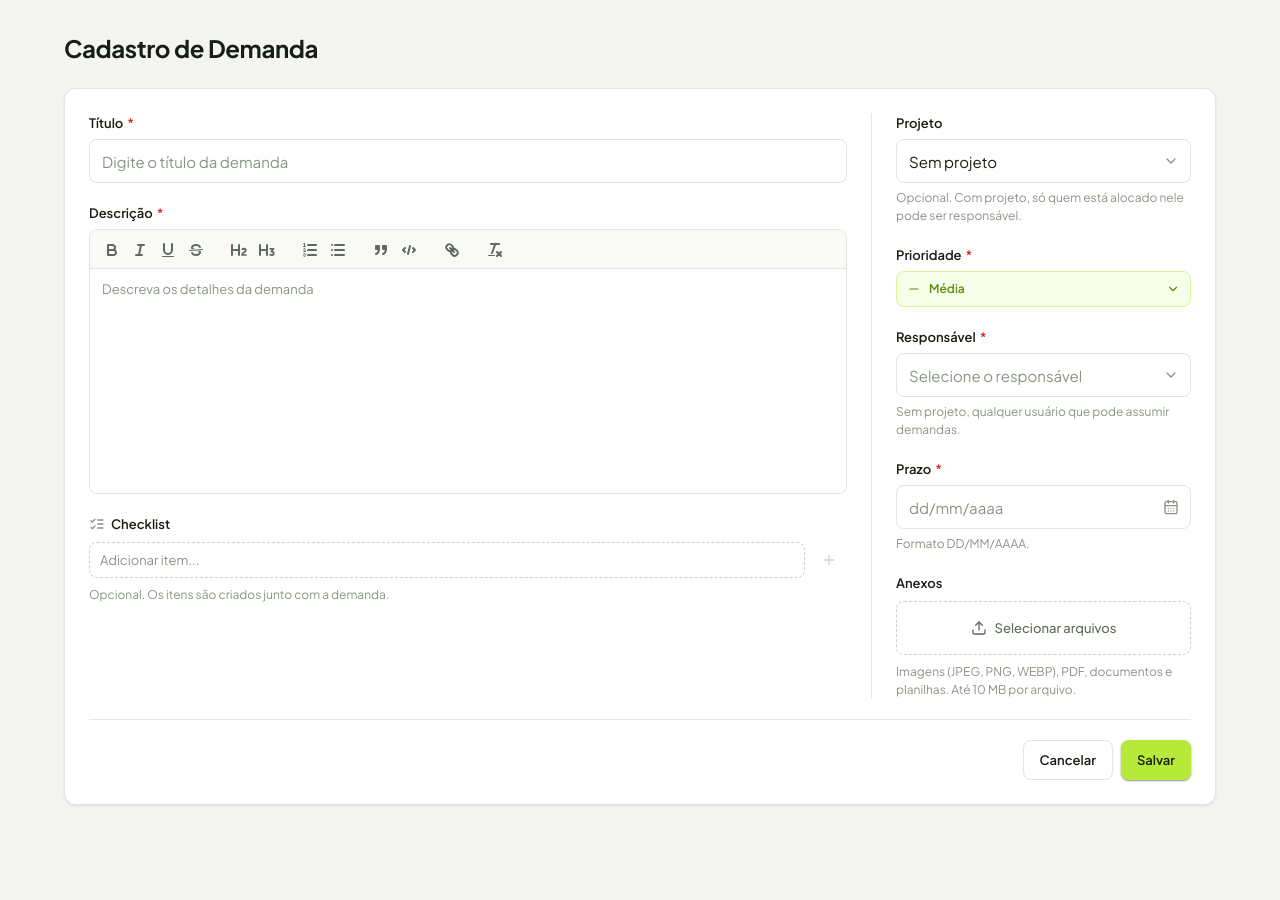
Test case: DemandFormPage — arriving from a column's "+" › clears the responsible and explains why when the chosen project excludes them
// Picked while no project narrowed the list — Sofia is eligible, just not here.
Click the dropdown labelled "Responsável *".
click(1044, 375)  # box [896,353,1191,397]
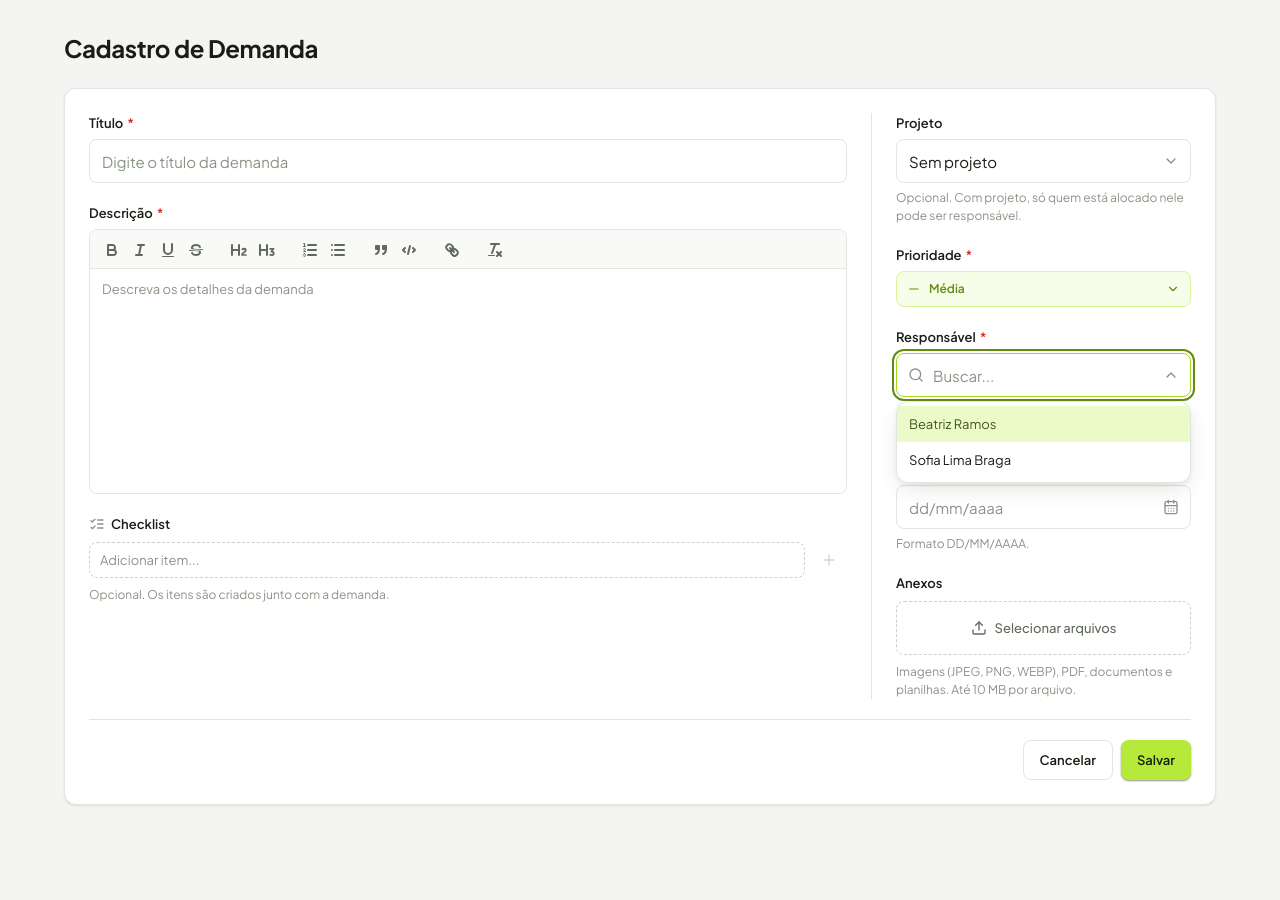
Click the option "Sofia Lima Braga".
click(960, 460)  # box [909,452,1011,468]
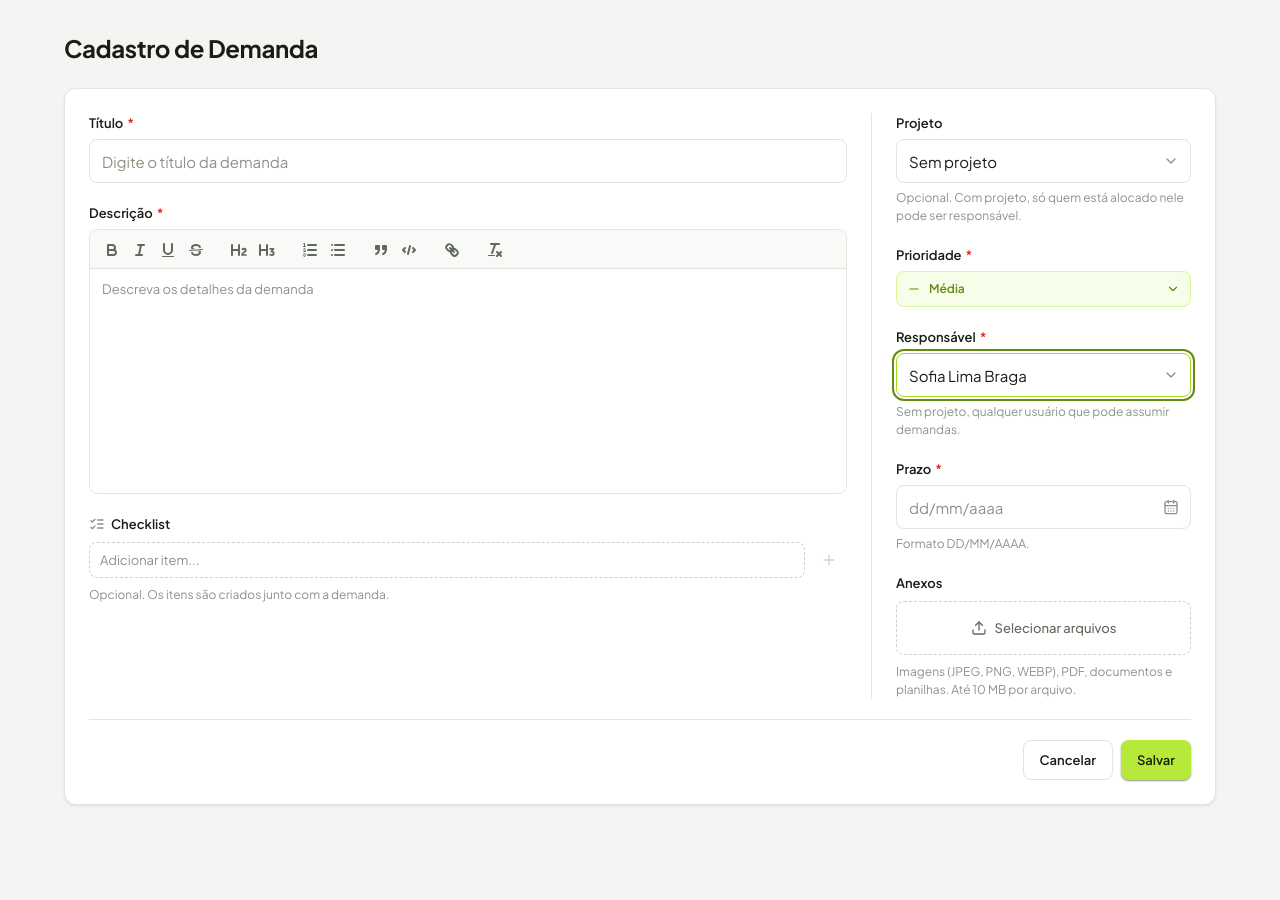
Expected: the dropdown labelled "Responsável *" holds "Sofia Lima Braga", [896,353,1191,397]
Click the dropdown labelled "Projeto".
click(1044, 161)  # box [896,139,1191,183]
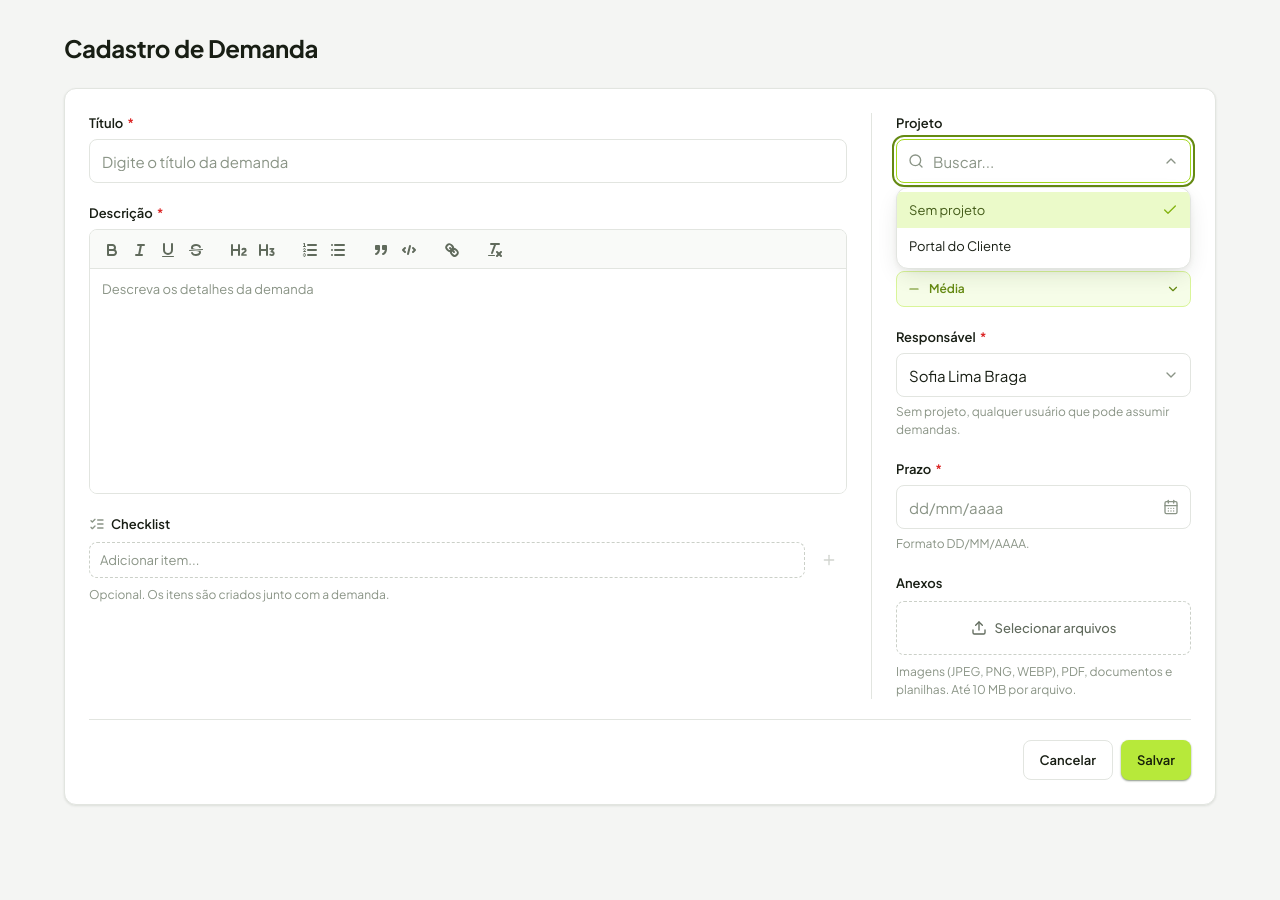
Click the option "Portal do Cliente".
click(960, 246)  # box [909,238,1011,254]
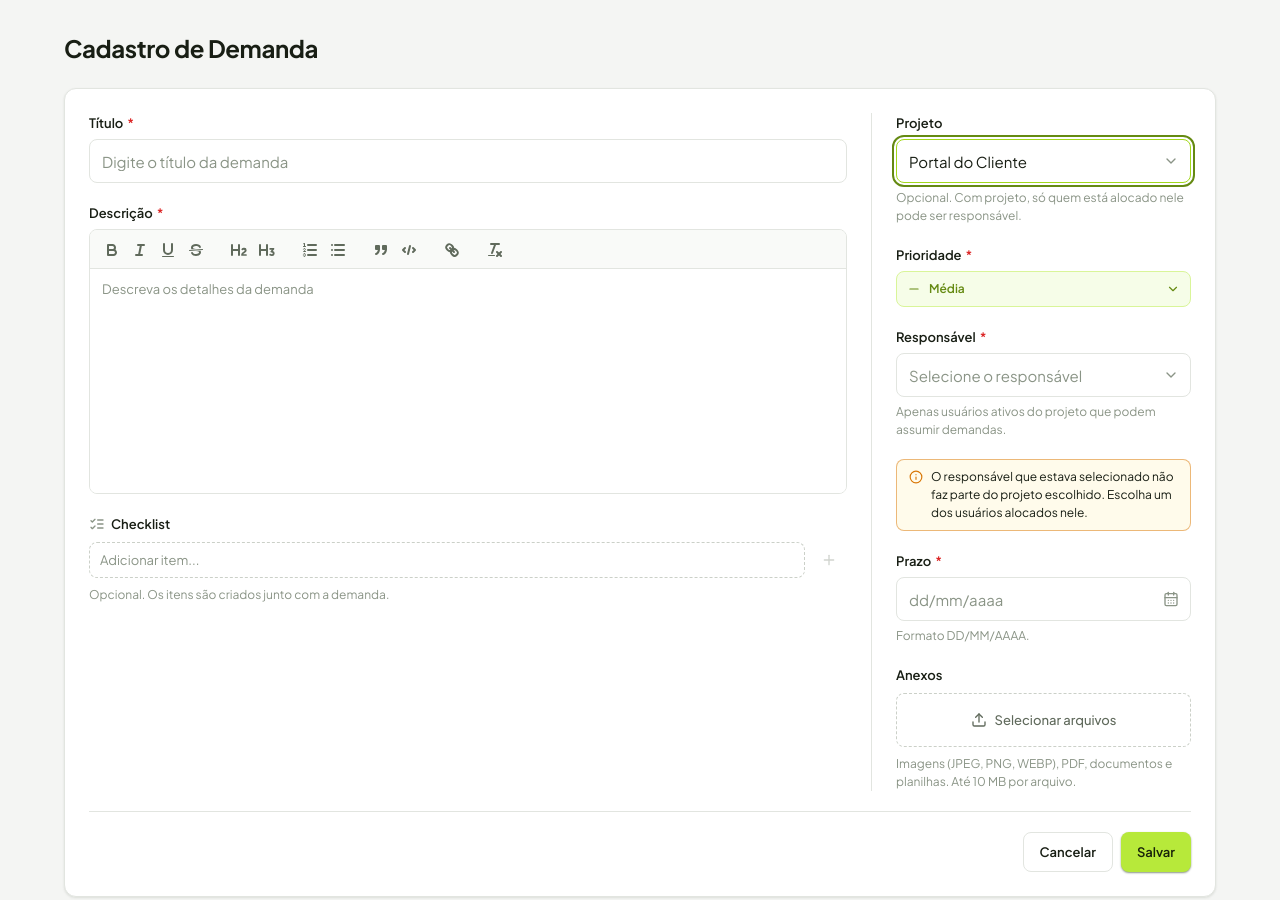
Expected: the text "não faz parte do projeto escolhido" is shown, [931,469,1174,520]
Expected: the dropdown labelled "Responsável *" is empty, [896,353,1191,397]
